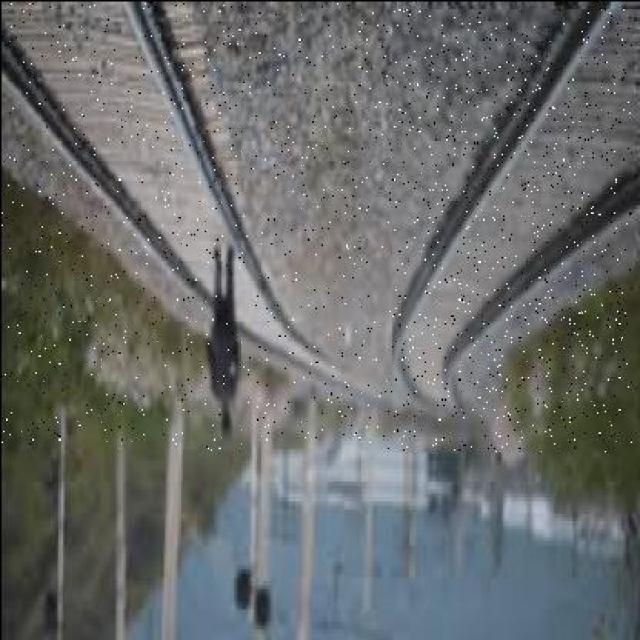rail: (1, 3, 392, 443), (364, 9, 632, 451)
